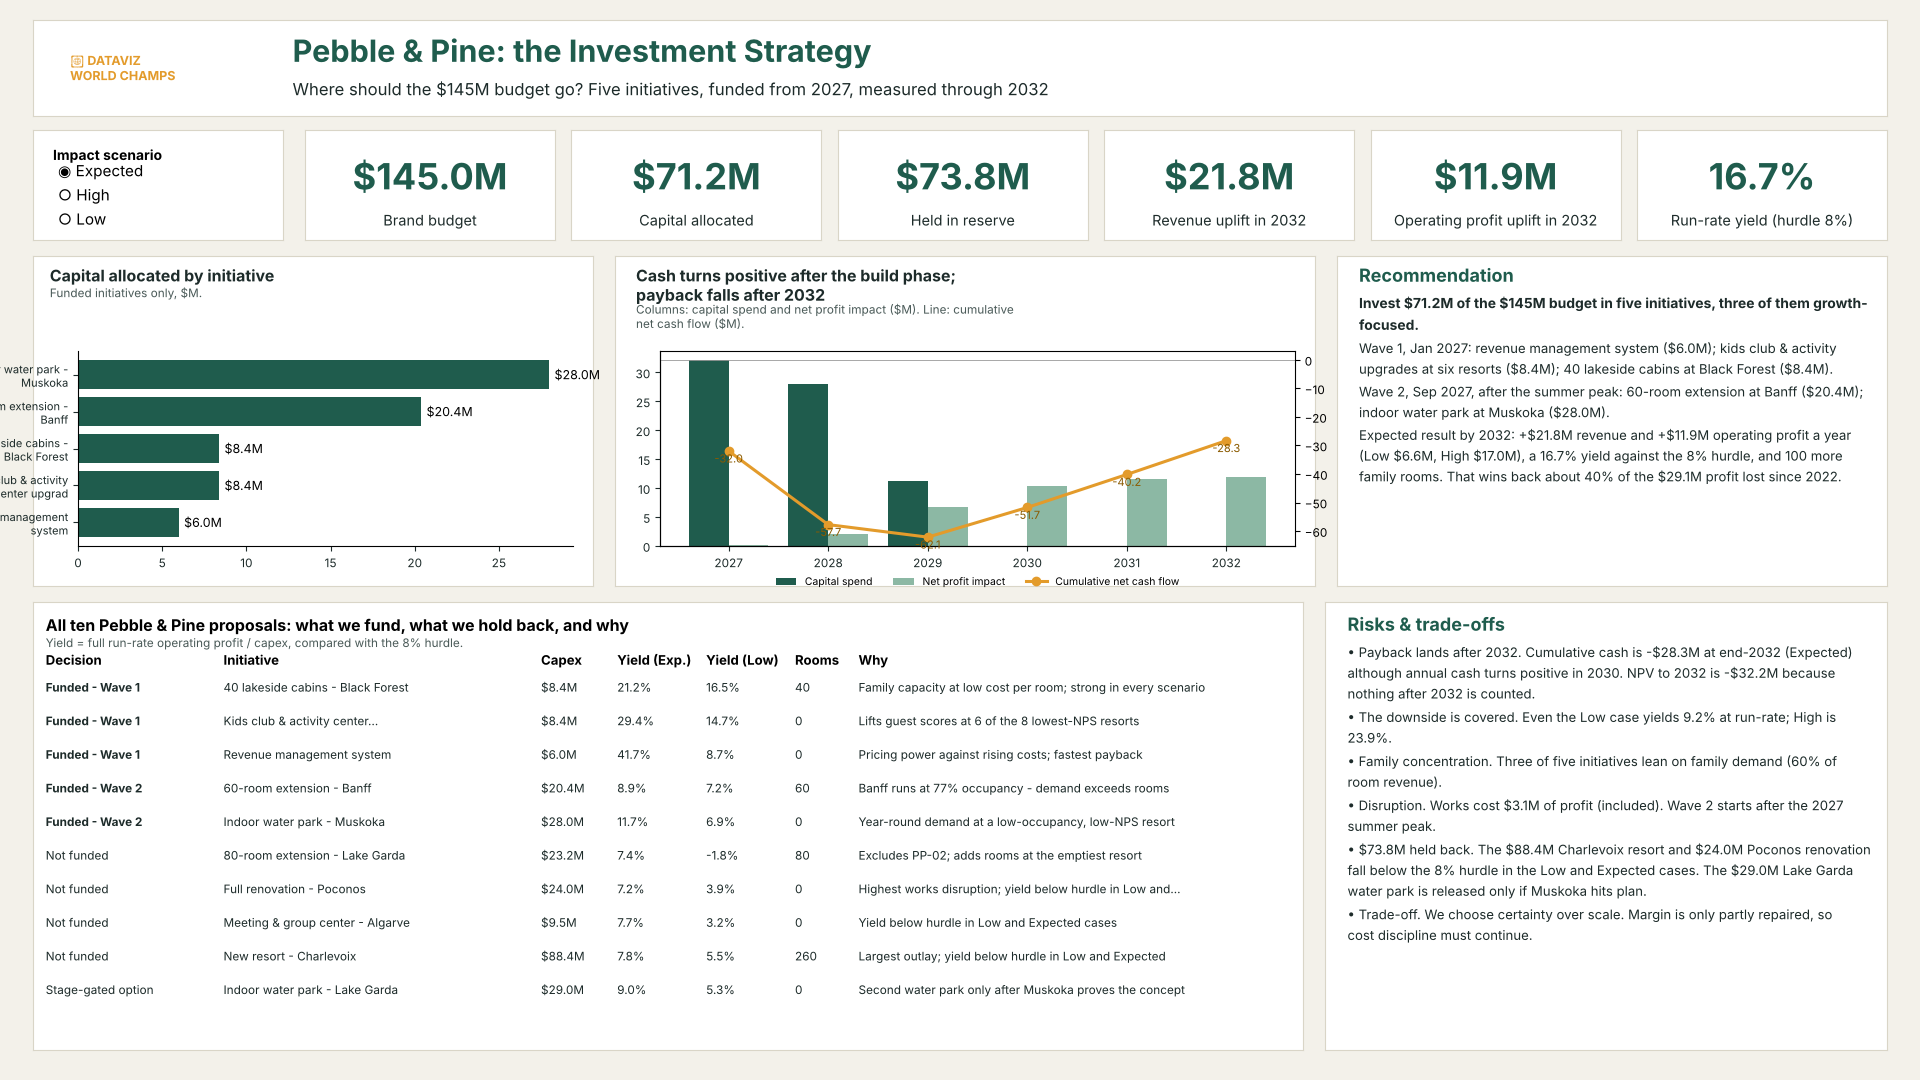

The dashboard page shown, as its layout file describes it:
{"tool":"powerbi","page":{"name":"Page 2 - Investment Strategy","canvas":[1920,1080],"ordinal":1},"visuals":[{"type":"shape","box":[33,20,1854,96],"z":1100},{"type":"image","box":[48,26,185,88],"z":1200},{"type":"textbox","box":[250,24,1400,88],"z":1300},{"type":"image","box":[1760,28,100,84],"z":1400},{"type":"slicer","title":"Impact scenario","fields":{"Values":["Scenario.Scenario"]},"box":[33,130,250,110],"z":1500},{"type":"card","fields":{"Values":["InvestmentProjects.Brand Budget"]},"box":[305,130,250,110],"z":1600},{"type":"card","fields":{"Values":["InvestmentProjects.Funded Capex"]},"box":[571.4,130,250,110],"z":1700},{"type":"card","fields":{"Values":["InvestmentProjects.Budget Remaining"]},"box":[837.8,130,250,110],"z":1800},{"type":"card","fields":{"Values":["InvestmentProjects.Revenue Uplift 2032"]},"box":[1104.2,130,250,110],"z":1900},{"type":"card","fields":{"Values":["InvestmentProjects.Profit Uplift 2032"]},"box":[1370.6,130,250,110],"z":2000},{"type":"card","fields":{"Values":["InvestmentProjects.Run-rate Yield"]},"box":[1637,130,250,110],"z":2100},{"type":"clusteredBarChart","title":"Capital allocated by initiative","fields":{"Category":["InvestmentProjects.ProjectName"],"Y":["InvestmentProjects.Project Funded Capex"]},"box":[33,256,560,330],"z":2200},{"type":"lineClusteredColumnComboChart","title":"Cash turns positive after the build phase; payback falls after 2032","fields":{"Category":["Date.Year"],"Y":["InvestmentProjects.Capital Spend","InvestmentProjects.Net Profit Impact"],"Y2":["InvestmentProjects.Cumulative Net Cash Flow"]},"box":[615,256,700,330],"z":2300},{"type":"textbox","box":[1337,256,550,330],"z":2400},{"type":"tableEx","title":"All ten Pebble & Pine proposals: what we fund, what we hold back, and why","fields":{"Values":["InvestmentProjects.ProjectName","InvestmentProjects.Category","InvestmentProjects.Decision","InvestmentProjects.Project Capex Total","InvestmentProjects.Plan Start","InvestmentProjects.Project Yield","InvestmentProjects.Project Yield Low Case","InvestmentProjects.Project Profit Uplift 2032","InvestmentProjects.Project Rooms Added","InvestmentProjects.Project Guest Score Change","InvestmentProjects.Rationale"]},"box":[33,602,1270,448],"z":2500},{"type":"textbox","box":[1325,602,562,448],"z":2600}]}

Visuals, with their boxes in screenshot pixels (x1, y1, x2, y2), scaled from the page's 1920x1080 canvas onto the 1920x1080 screenshot:
shape: (33, 20, 1887, 116)
image: (48, 26, 233, 114)
textbox: (250, 24, 1650, 112)
image: (1760, 28, 1860, 112)
"Impact scenario" slicer: (33, 130, 283, 240)
card - InvestmentProjects.Brand Budget: (305, 130, 555, 240)
card - InvestmentProjects.Funded Capex: (571, 130, 821, 240)
card - InvestmentProjects.Budget Remaining: (838, 130, 1088, 240)
card - InvestmentProjects.Revenue Uplift 2032: (1104, 130, 1354, 240)
card - InvestmentProjects.Profit Uplift 2032: (1371, 130, 1621, 240)
card - InvestmentProjects.Run-rate Yield: (1637, 130, 1887, 240)
"Capital allocated by initiative" clusteredBarChart: (33, 256, 593, 586)
"Cash turns positive after the build phase; payback falls after 2032" lineClusteredColumnComboChart: (615, 256, 1315, 586)
textbox: (1337, 256, 1887, 586)
"All ten Pebble & Pine proposals: what we fund, what we hold back, and why" tableEx: (33, 602, 1303, 1050)
textbox: (1325, 602, 1887, 1050)
